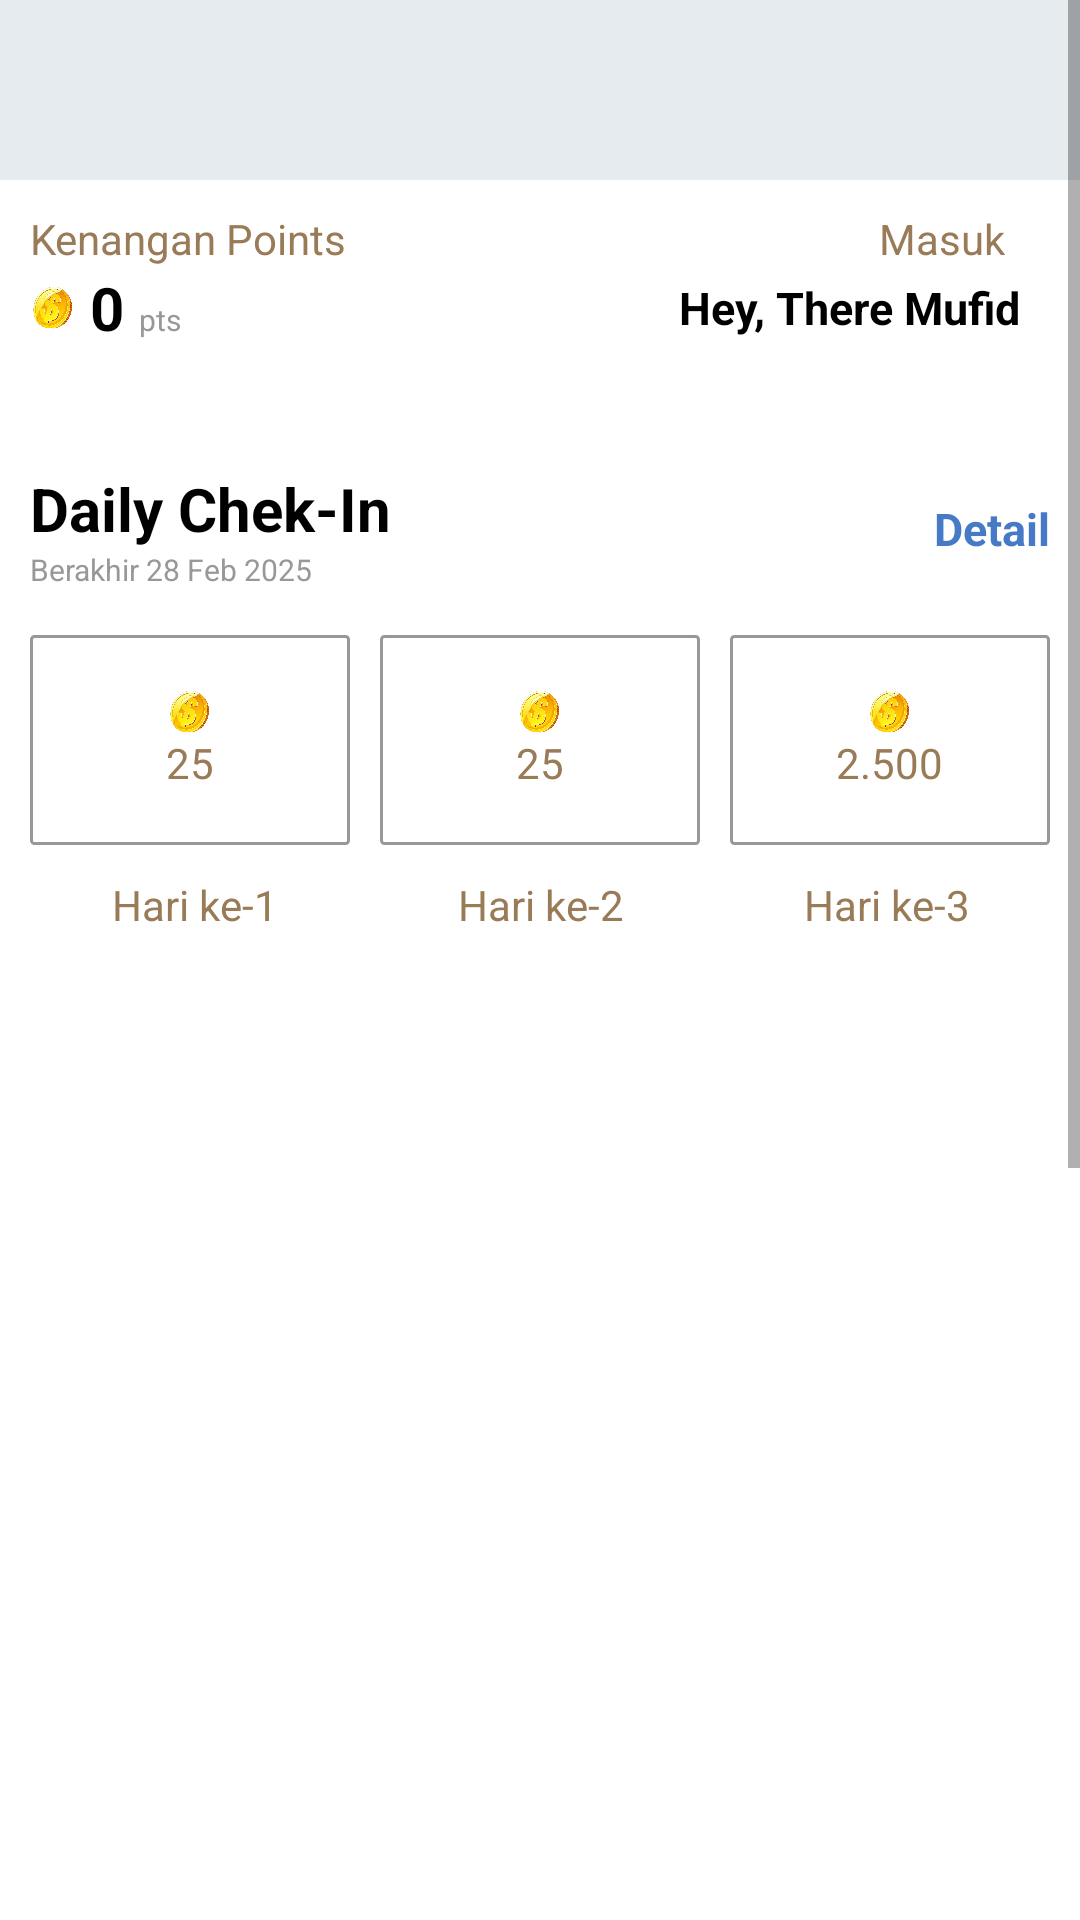

Point at icon controls on the screen. Image size 1080 x 1920, points as (x=x, y=y).
koin: (x=52, y=308), (x=189, y=712), (x=539, y=712), (x=889, y=712)
